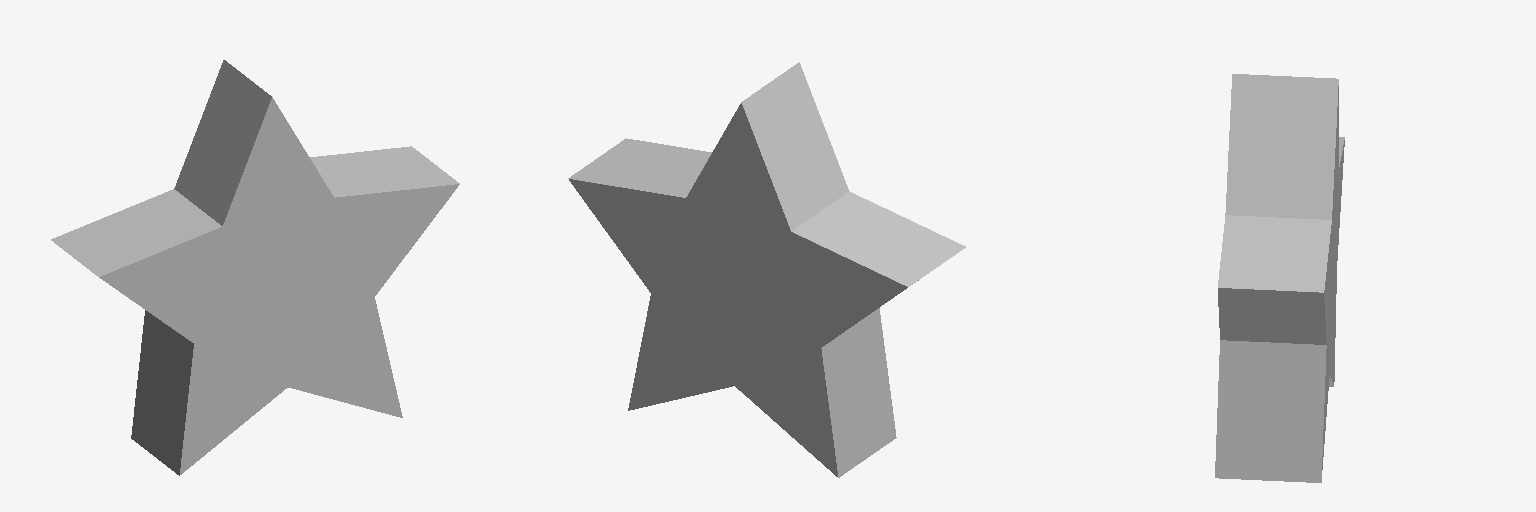
File: estrella.obj
3 renders of one model, left to right at view 1: azimuth 30°, elevation 25°; view 2: azimuth 150°, elevation 25°; view 3: azimuth 270°, elevation 25°, orthographic.
Parts seen in each view (by area): view 1: Star; view 2: Star; view 3: Star.
Boxes of the visible parts, x1=… form: Star: x1=51, y1=60, x2=459, y2=475; Star: x1=568, y1=62, x2=965, y2=477; Star: x1=1215, y1=74, x2=1344, y2=482.
Bounding box in the file's own units: 0.5208 × 0.4993 × 0.1651.